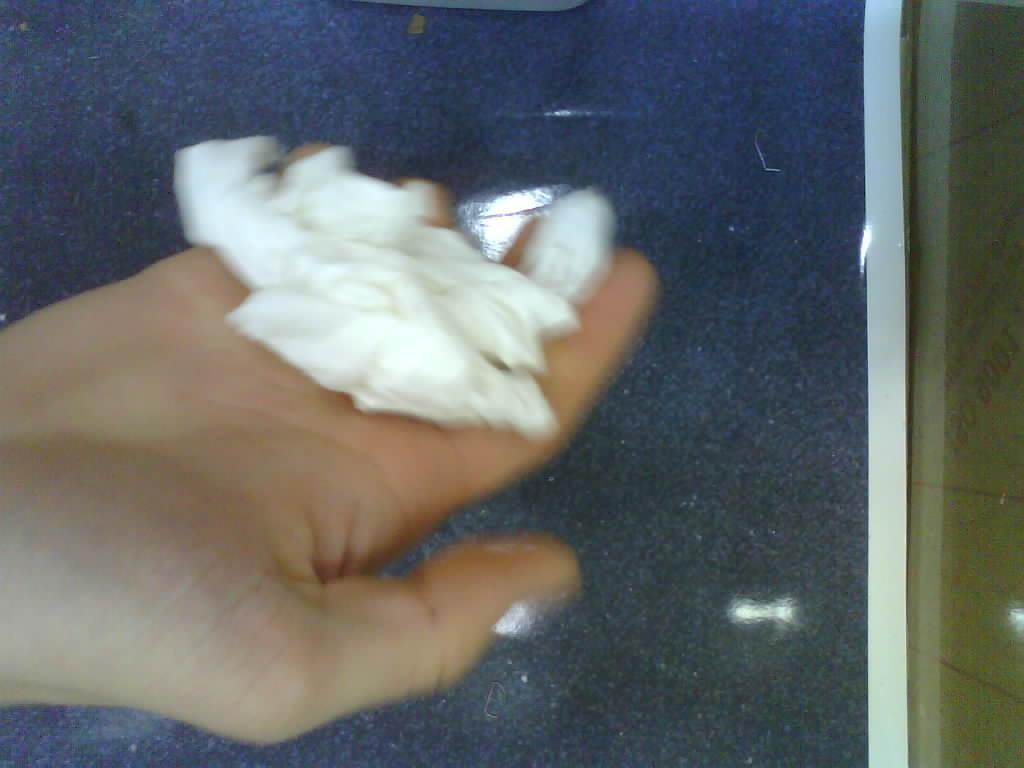paper: (174, 135, 614, 437)
